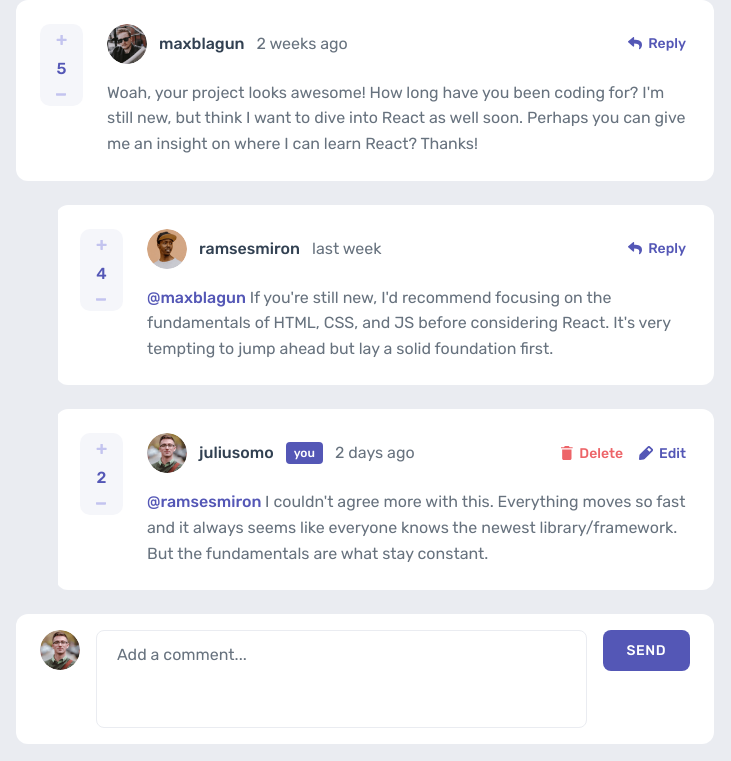
Scenario: App integration › new comment form submits a top-level comment
(page scrolled)
In the text box with placeholder "Add a comment...": point(341, 679) [96,630,587,728], type "Brand new comment"
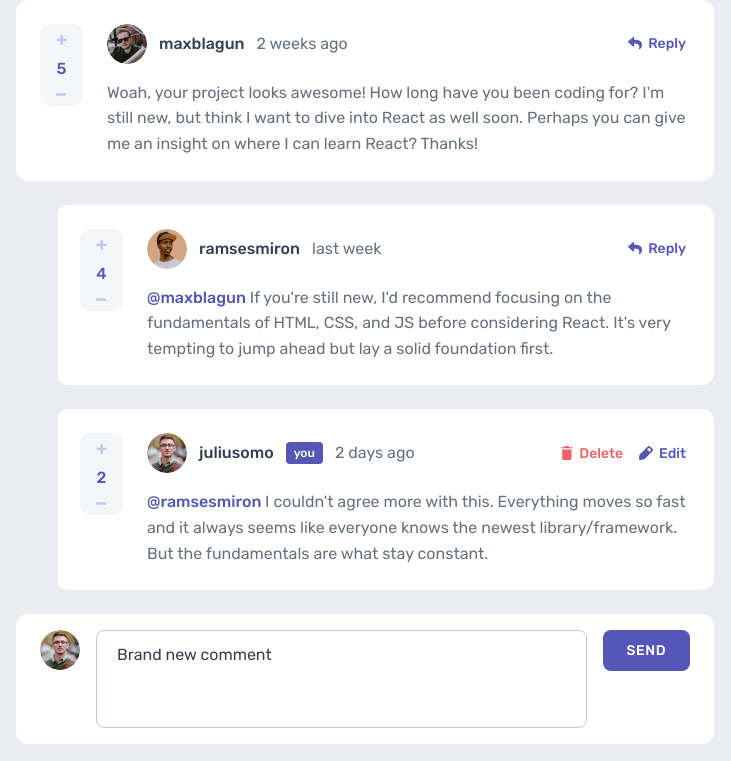
Click the button "SEND": point(646, 651) [603,630,690,671]
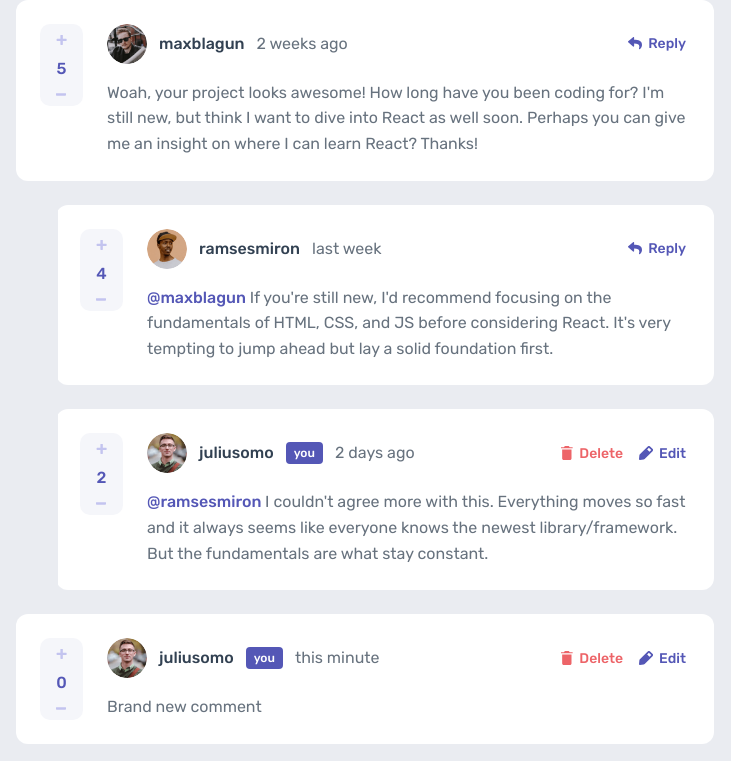
Check: the text "Brand new comment" is shown, box [107,697,262,716]
